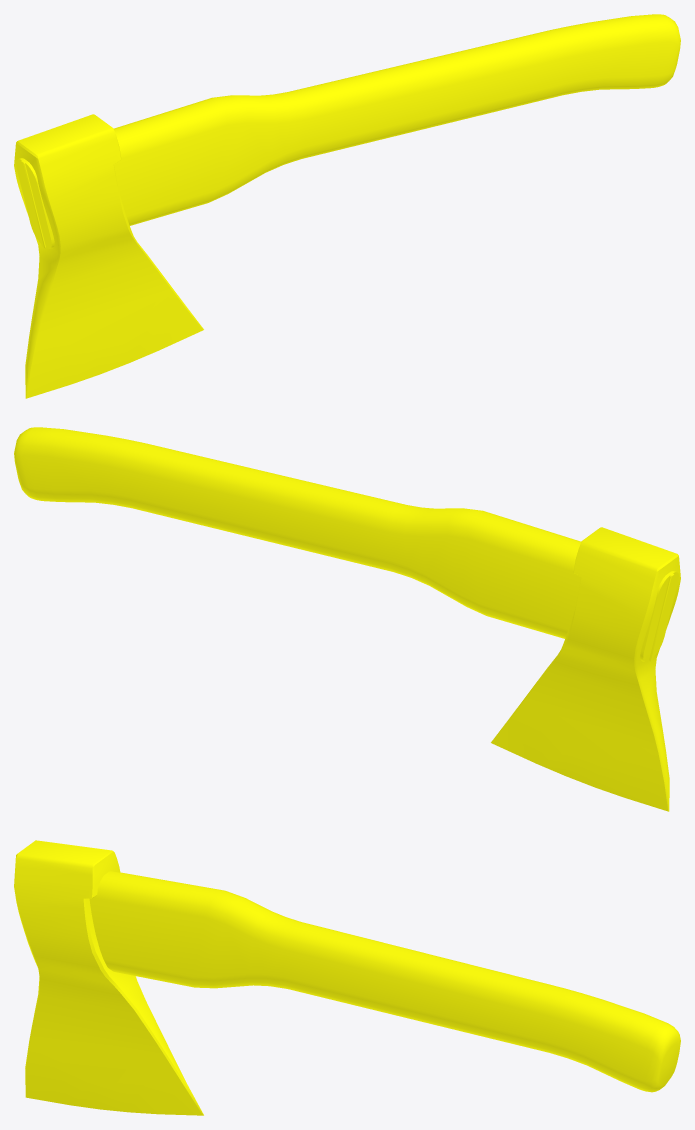
The model's file is SM_Axe_Old_01.glb.
The picture shows the model from 3 angles, top to bottom: view 1: azimuth 30°, elevation 25°; view 2: azimuth 150°, elevation 25°; view 3: azimuth 330°, elevation 25°; orthographic projection.
Visible parts, largest first — view 1: SM_Axe_Old_01_LOD0; view 2: SM_Axe_Old_01_LOD0; view 3: SM_Axe_Old_01_LOD0.
Part boxes in pixels (x1,y1,x2,y2): SM_Axe_Old_01_LOD0: (14, 14, 680, 398); SM_Axe_Old_01_LOD0: (14, 427, 680, 811); SM_Axe_Old_01_LOD0: (14, 840, 680, 1115).
Size of what is drawn, in the model's own units: 0.5709 by 0.2168 by 0.049.
Materials: 1 (1 with a texture image).
